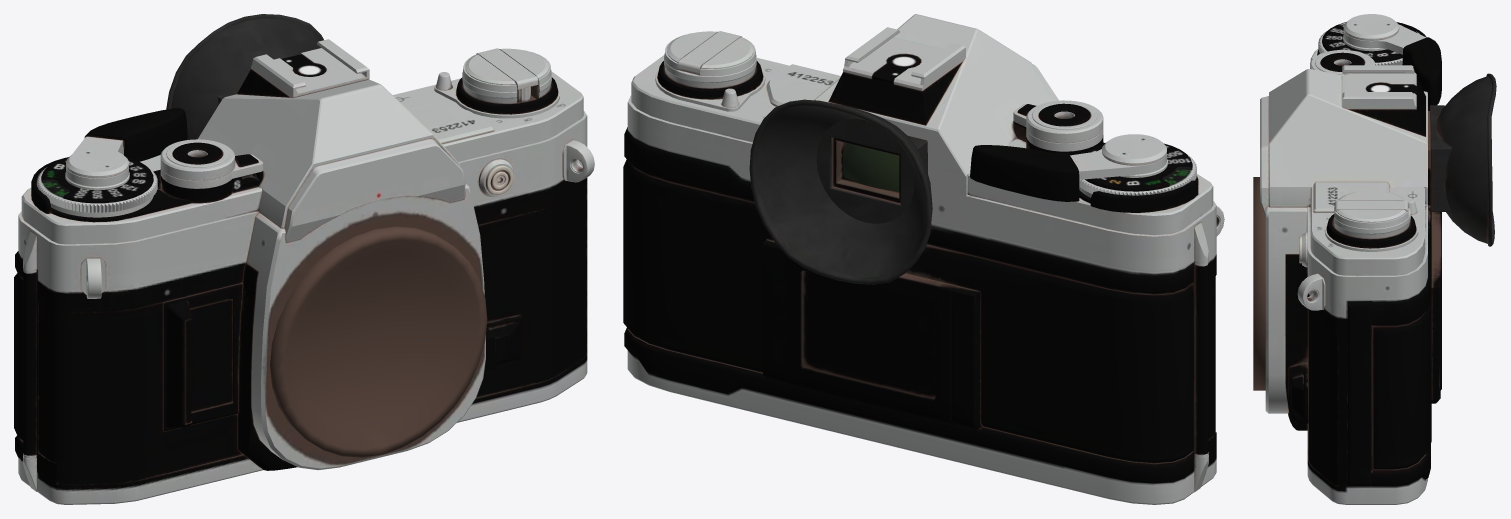
Rendered from cmodel-optimized.glb.
3 views of the same model, side by side, from view 1: azimuth 30°, elevation 25°; view 2: azimuth 150°, elevation 25°; view 3: azimuth 270°, elevation 25° (orthographic). The views are drawn at different scales.
Parts seen in each view (by area): view 1: ORIGNIAL BASE; view 2: ORIGNIAL BASE; view 3: ORIGNIAL BASE.
Part boxes in pixels (left/top/right/bottom): ORIGNIAL BASE: left=14, top=14, right=594, bottom=504; ORIGNIAL BASE: left=623, top=14, right=1224, bottom=504; ORIGNIAL BASE: left=1253, top=14, right=1496, bottom=504.
Bounding box in the file's own units: 0.1439 × 0.0896 × 0.0626.
1 material, 1 textured.
